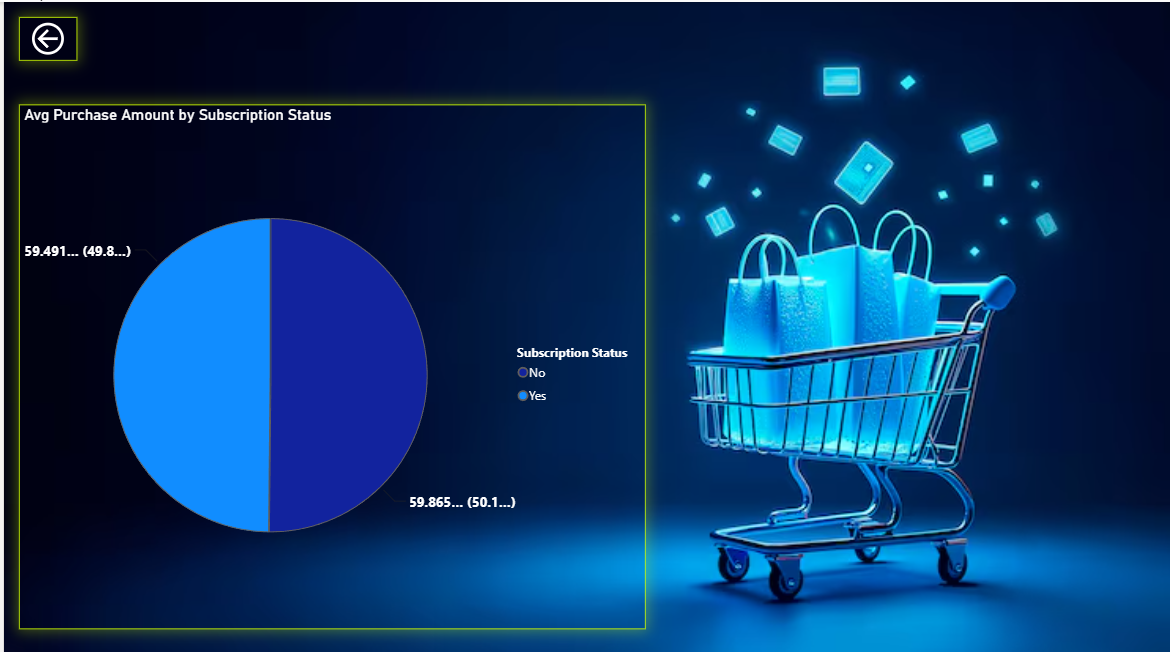

The dashboard page shown, as its layout file describes it:
{"tool":"powerbi","page":{"name":"Q5 – Subscribed vs non-subscribed","canvas":[1280,720],"ordinal":5},"visuals":[{"type":"pieChart","fields":{"Category":["customer.Subscription Status"],"Y":["measure.Avg Purchase Amount"]},"box":[144,64,944,576],"z":0}]}

Visuals, with their boxes in screenshot pixels (x1, y1, x2, y2), scaled from the page's 1280x720 canvas onto the 1170x652 screenshot:
pieChart - customer.Subscription Status x measure.Avg Purchase Amount: 132, 58, 994, 580
